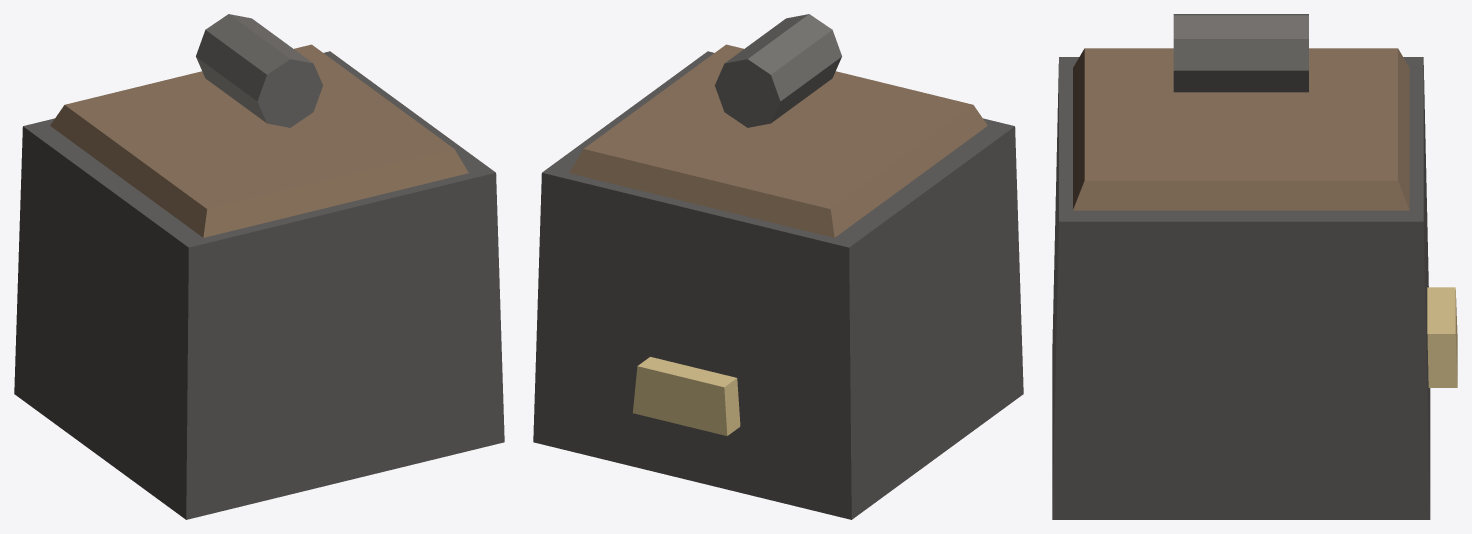
Rendered from station_smoking_hut.glb.
The picture shows the model from 3 angles, left to right: view 1: azimuth 30°, elevation 25°; view 2: azimuth 150°, elevation 25°; view 3: azimuth 270°, elevation 25°; orthographic projection. The views are drawn at different scales.
Visible parts, largest first — view 1: part_0, part_1, part_3; view 2: part_0, part_1, part_3, part_2; view 3: part_0, part_1, part_3, part_2.
Boxes of the visible parts, x1,y1,x2,y2 form: part_0: (14,51,504,519); part_1: (50,44,468,237); part_3: (196,14,322,127); part_0: (533,51,1023,519); part_1: (569,44,987,237); part_3: (715,14,841,127); part_2: (633,357,740,435); part_0: (1052,57,1430,519); part_1: (1073,48,1409,210); part_3: (1173,14,1308,92); part_2: (1427,287,1457,387).
Size of the model in its own units: 1.55 by 1.77 by 1.56.
